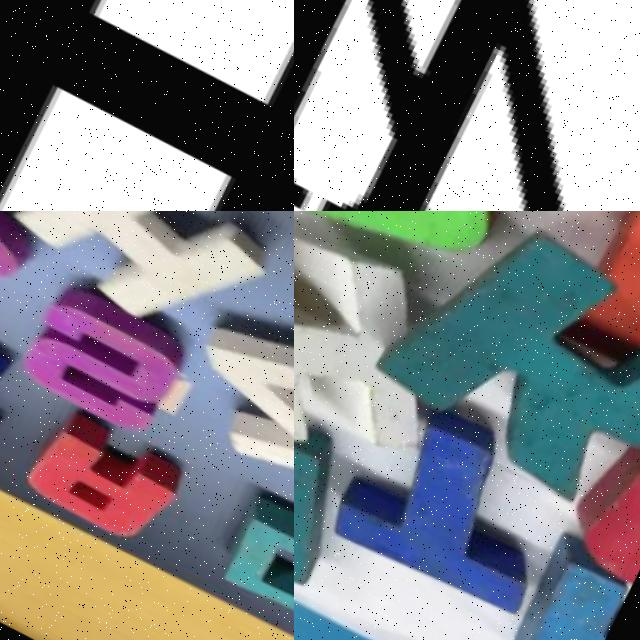A: (18, 390, 213, 560)
C: (294, 211, 579, 309)
D: (228, 485, 294, 628)
H: (294, 211, 530, 527), (0, 0, 294, 211), (0, 211, 288, 356)
K: (358, 211, 640, 540)
M: (294, 358, 379, 607)
S: (11, 266, 205, 439)
T: (326, 381, 598, 625), (0, 301, 60, 470)
W: (294, 0, 640, 211)
Z: (173, 282, 294, 504)
